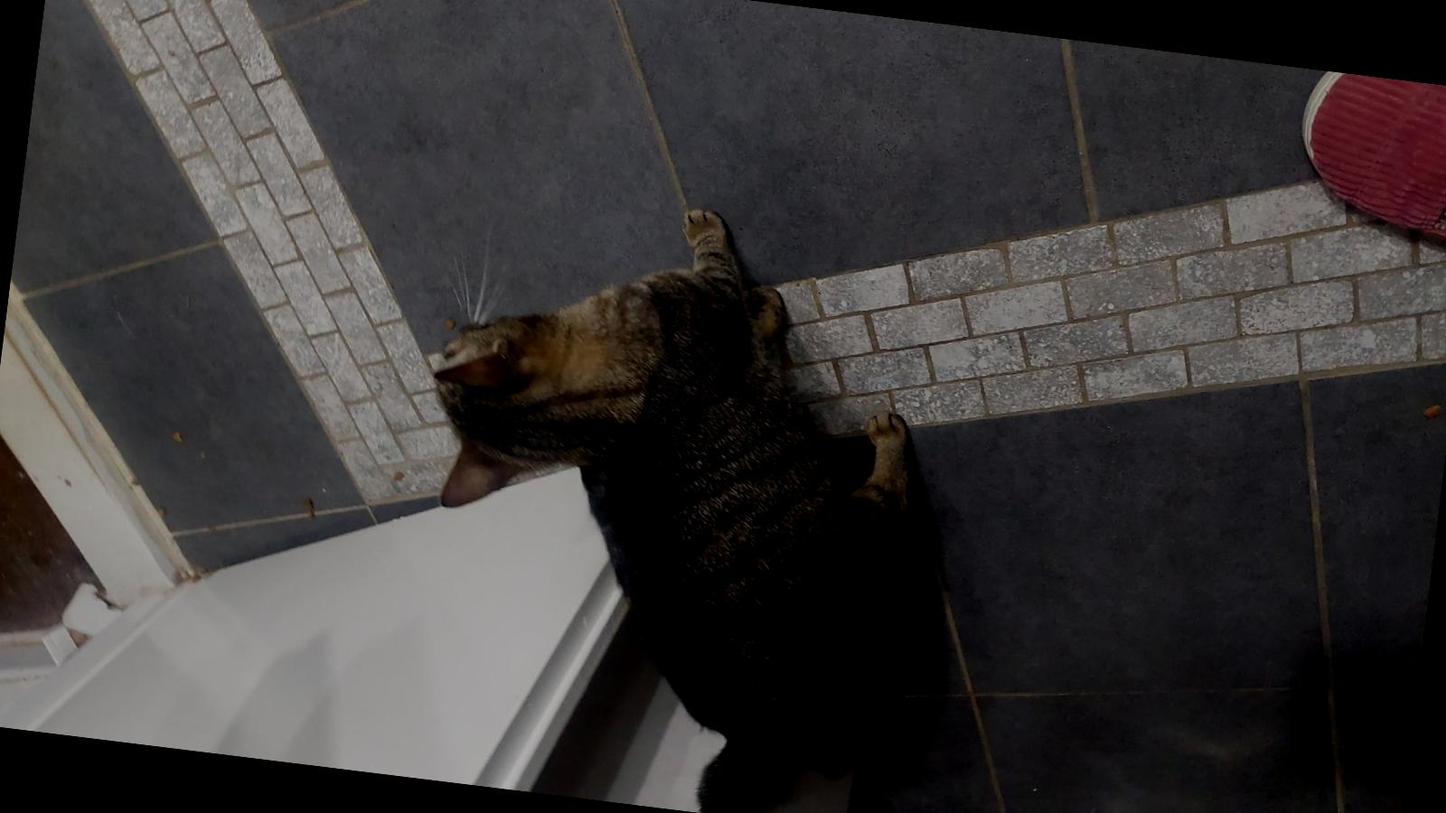macka: (379, 173, 946, 813)
